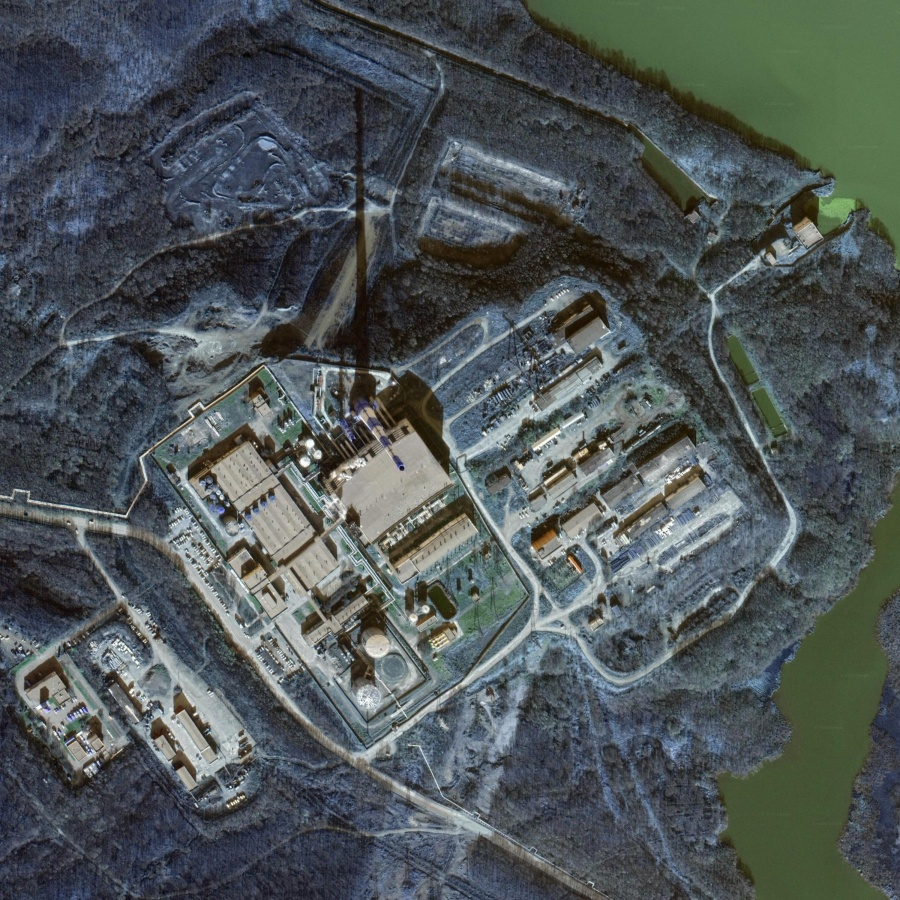PowerPlant: (186, 350, 501, 714)
